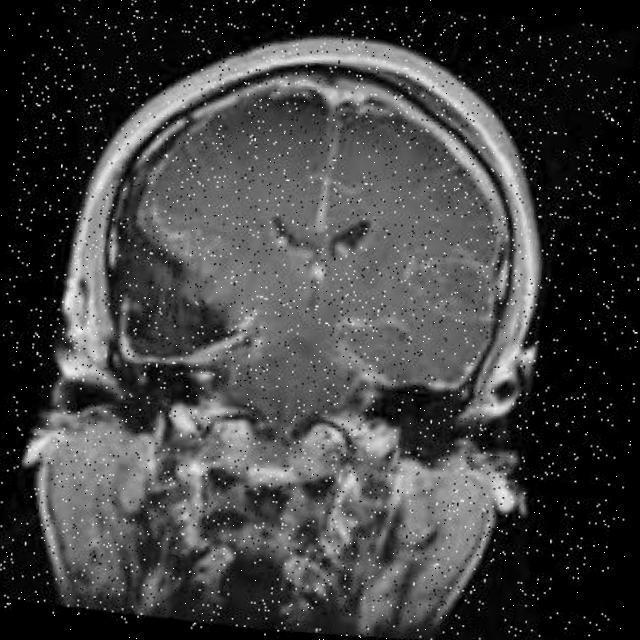CN: (62, 250, 250, 414), (371, 247, 532, 351)
